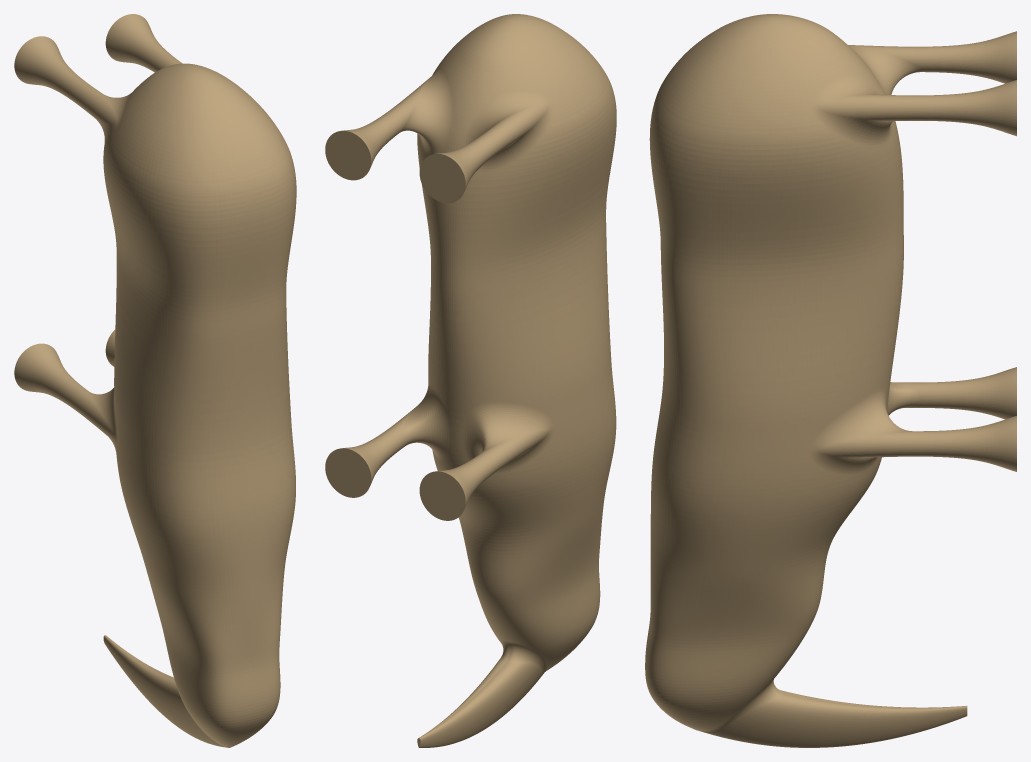
Rendered from LuHar.glb.
3 renders of one model, left to right at view 1: azimuth 30°, elevation 25°; view 2: azimuth 150°, elevation 25°; view 3: azimuth 270°, elevation 25°, orthographic. The views are drawn at different scales.
Parts seen in each view (by area): view 1: Lu'har.stl; view 2: Lu'har.stl; view 3: Lu'har.stl.
Part boxes in pixels (<box>): Lu'har.stl: <box>14,14,296,747</box>; Lu'har.stl: <box>325,14,616,747</box>; Lu'har.stl: <box>645,14,1016,747</box>.
Bounding box in the file's own units: 11.6 × 48.91 × 22.57.
